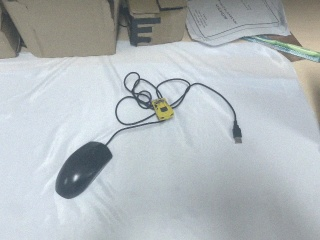box: (1, 1, 120, 61), (120, 1, 188, 48), (1, 2, 21, 62)
mouse: (54, 140, 113, 200)
toy_car: (153, 98, 174, 121)
